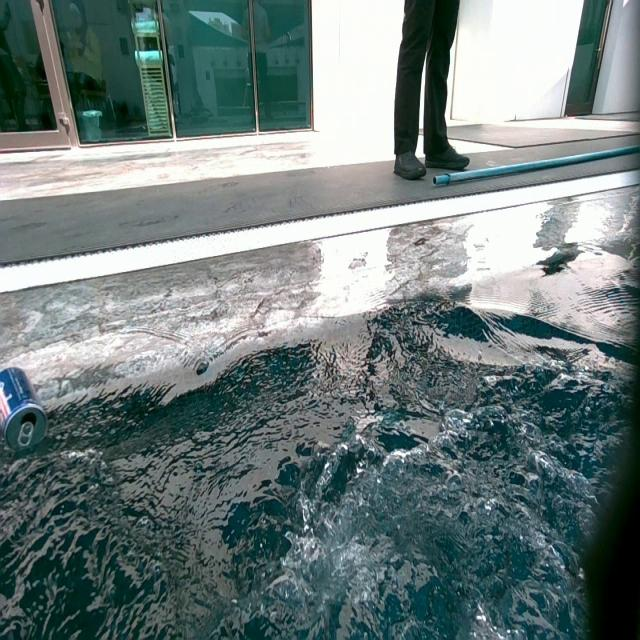Cans: (0, 362, 49, 448)
